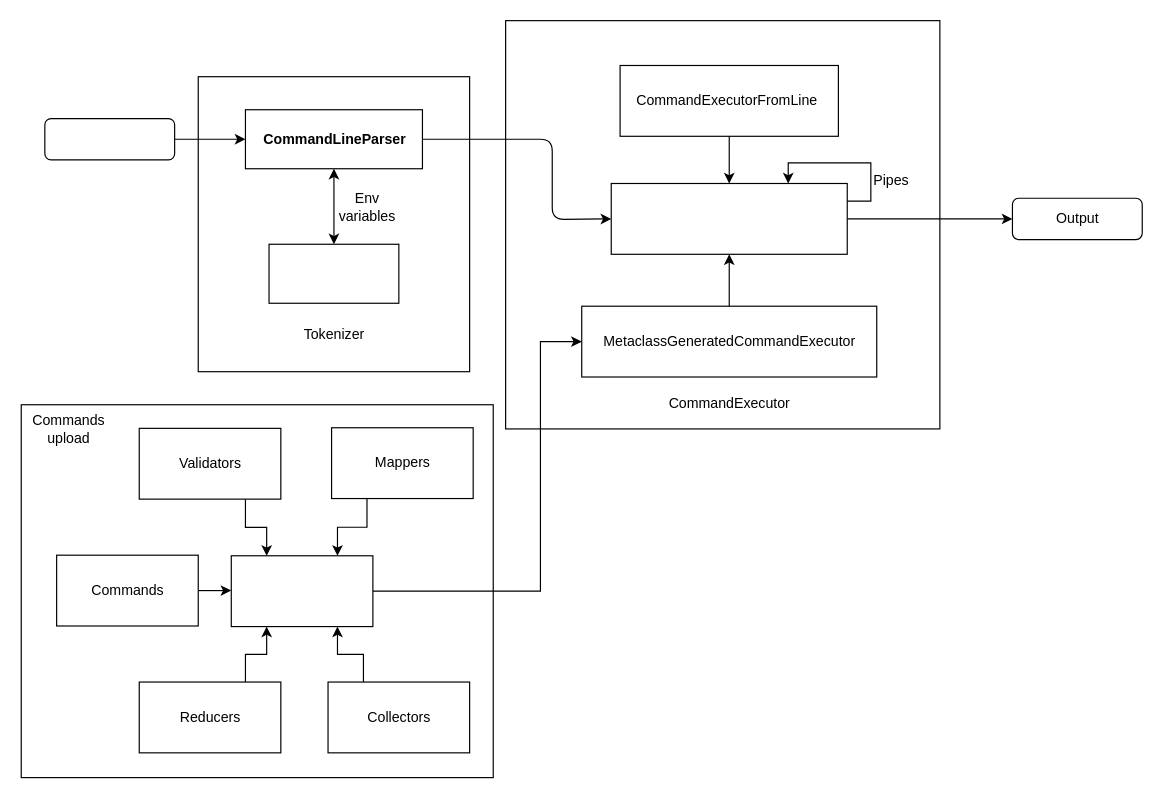
This 1162x799 diagram has some shape labels left out. The box of each missing label's shape, as (x1, y1, x2, y2) in pixels:
CommandExecutorMixedImpl: (610, 182, 847, 254)
Metaclass: (230, 555, 373, 627)
New command: (44, 117, 175, 160)
ParserContext: (268, 243, 399, 303)
